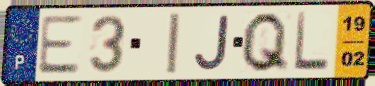3: (86, 13, 128, 75)
E: (35, 14, 83, 77)
I: (165, 11, 183, 76)
J: (192, 13, 231, 73)
L: (292, 11, 331, 74)
Q: (238, 10, 291, 75)
